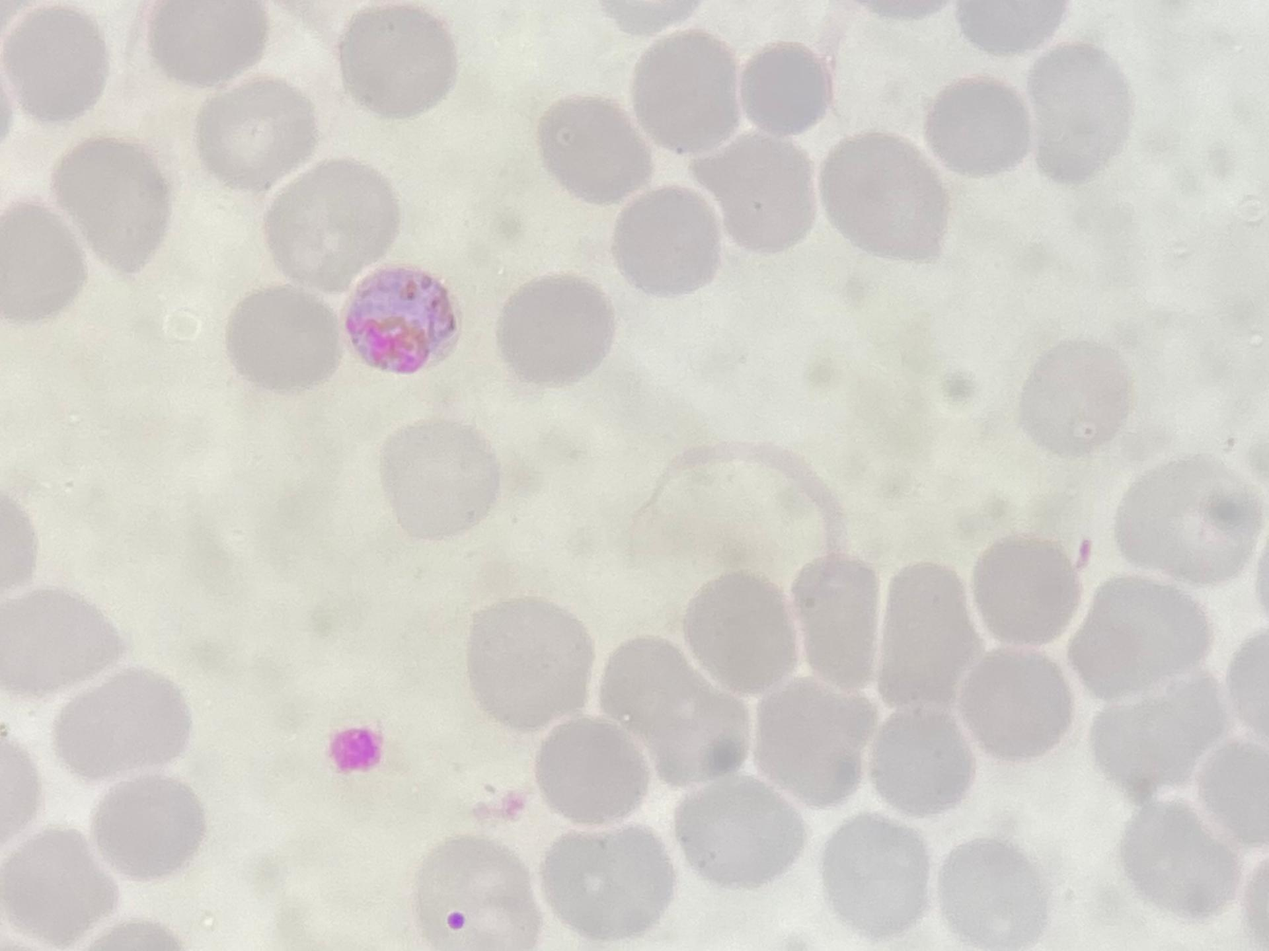Infected: (342, 266, 459, 373)
Uninfected: (598, 634, 746, 784), (1114, 455, 1258, 587), (463, 595, 594, 732), (264, 157, 397, 289), (820, 133, 947, 270), (50, 135, 174, 275), (1069, 576, 1206, 698), (52, 667, 194, 783), (1089, 669, 1224, 790), (750, 679, 875, 805), (690, 129, 815, 254), (679, 568, 800, 696), (540, 823, 671, 940), (1024, 41, 1134, 180), (874, 559, 978, 702), (383, 419, 499, 546), (1, 584, 126, 700), (675, 777, 804, 889), (628, 30, 743, 155), (818, 813, 932, 938), (1118, 797, 1235, 917), (194, 78, 318, 190), (412, 837, 537, 948), (335, 7, 454, 123), (1017, 339, 1133, 457), (1, 825, 116, 942), (540, 91, 649, 212), (790, 557, 887, 692), (87, 773, 208, 879), (530, 718, 648, 825), (970, 534, 1082, 646), (956, 650, 1071, 759), (500, 278, 612, 389), (868, 700, 978, 813), (2, 5, 108, 122), (225, 287, 341, 390), (935, 836, 1044, 945), (617, 187, 723, 298), (145, 1, 267, 87), (0, 202, 87, 322), (925, 80, 1025, 179), (738, 40, 835, 139)
